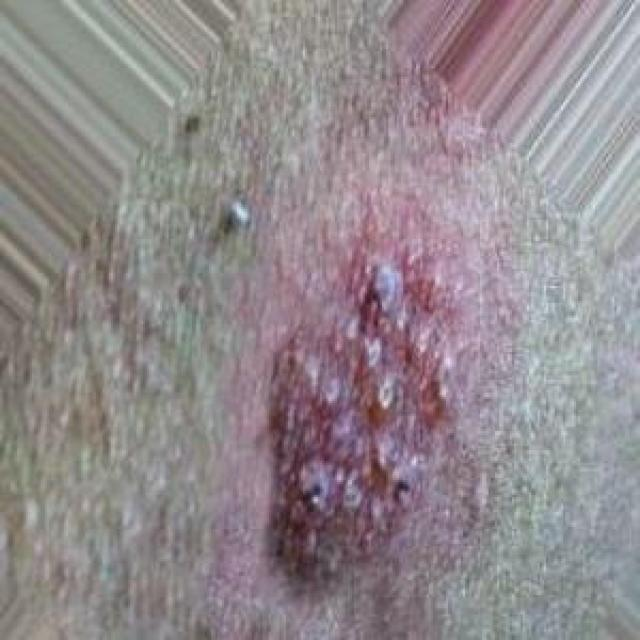Shingles: (260, 249, 461, 576)
